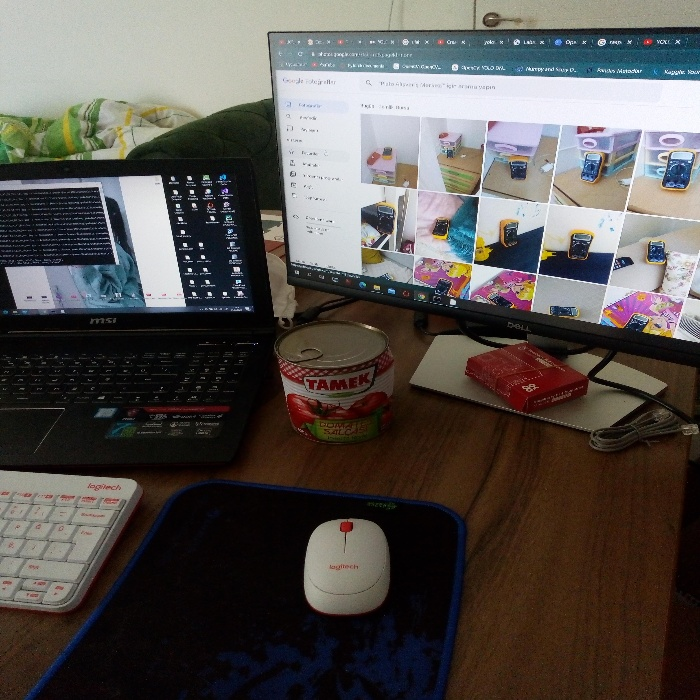salca: (274, 306, 404, 444)
